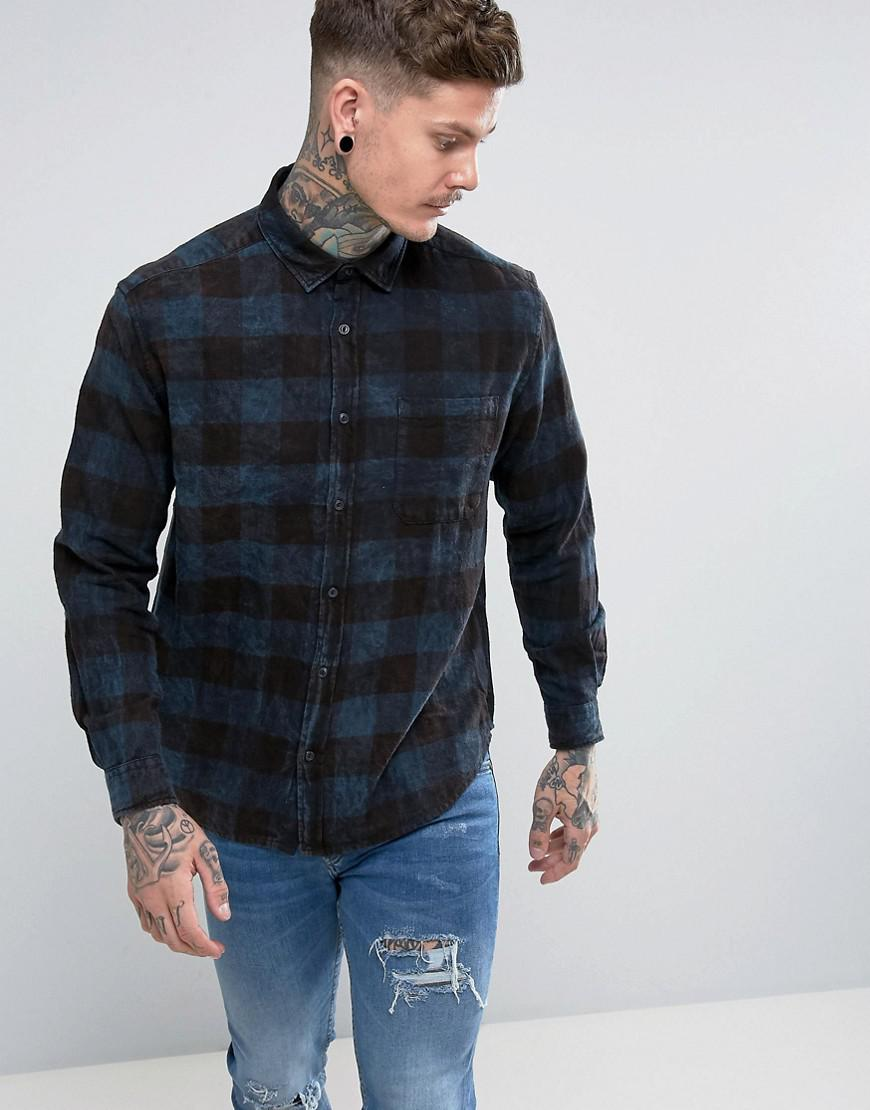teeshirt: (49, 166, 612, 859)
